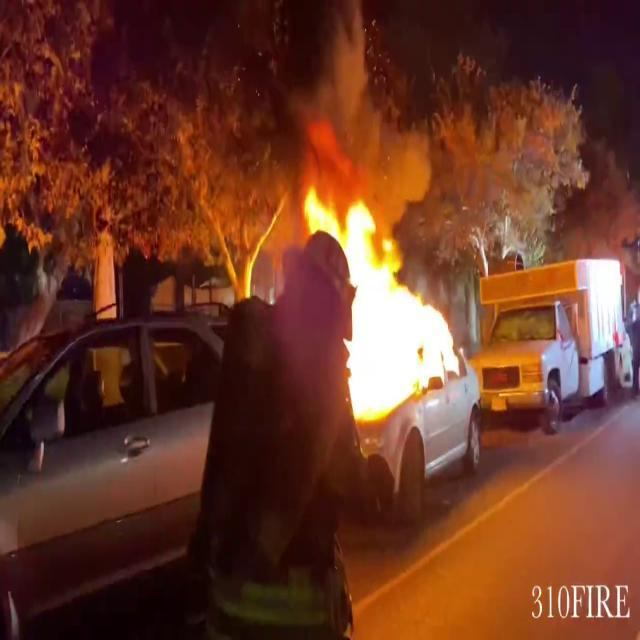Fire: (298, 166, 464, 422)
Smoke: (240, 0, 413, 238)
